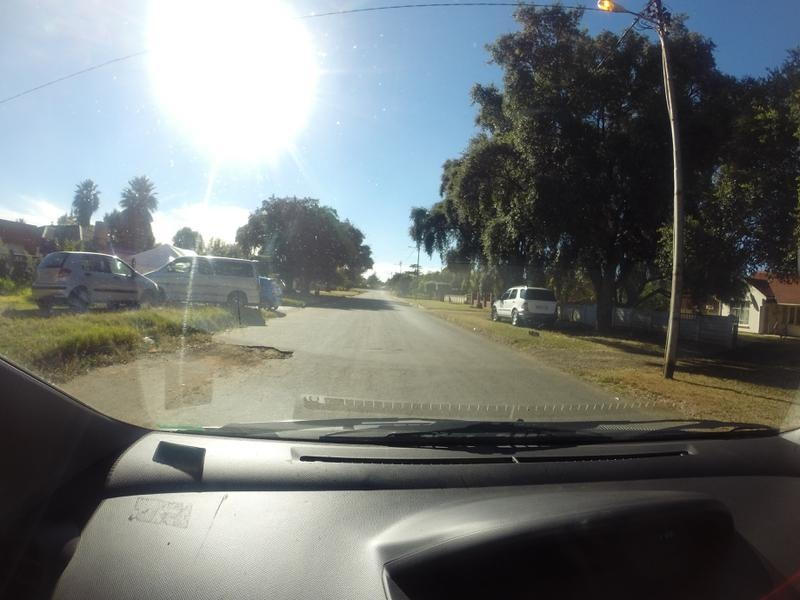pothole: (181, 343, 294, 372)
